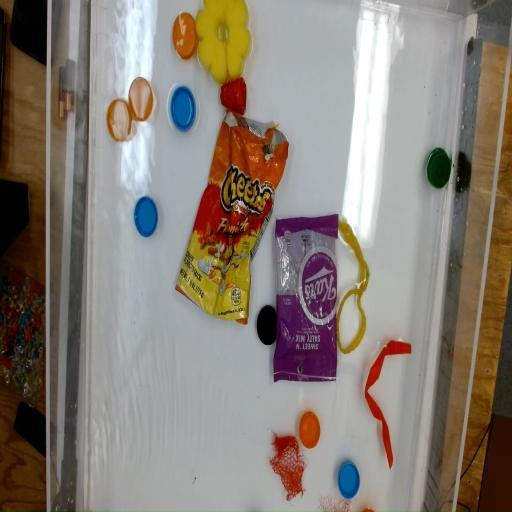Bottle Cap: (170, 85, 196, 131), (106, 99, 132, 144), (426, 146, 452, 190), (172, 12, 196, 58), (129, 78, 154, 121), (136, 196, 160, 240), (338, 457, 360, 503), (258, 302, 280, 344), (300, 410, 321, 449)
Cone Cap: (220, 78, 252, 118)
Netting: (268, 430, 308, 502), (316, 491, 358, 512)
Plastic Bag: (174, 112, 290, 328), (272, 210, 340, 382)
Plastic Strand: (365, 340, 414, 470), (334, 216, 370, 360)
Sponge: (194, 0, 254, 78)
